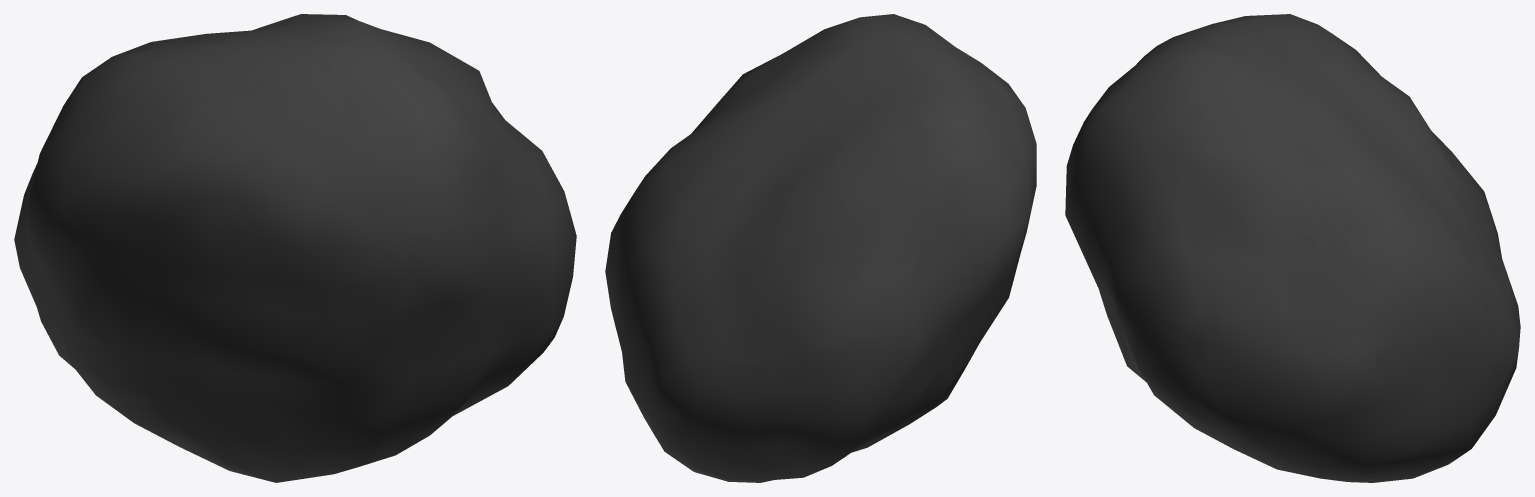
The model's file is backMeteor.obj.
3 renders of one model, left to right at view 1: azimuth 30°, elevation 25°; view 2: azimuth 150°, elevation 25°; view 3: azimuth 270°, elevation 25°, orthographic. The views are drawn at different scales.
Visible parts, largest first — view 1: Meteor_メッシュ; view 2: Meteor_メッシュ; view 3: Meteor_メッシュ.
Part boxes in pixels (box(x1,y1,x2,y2)): Meteor_メッシュ: box(14, 14, 576, 482); Meteor_メッシュ: box(605, 14, 1036, 482); Meteor_メッシュ: box(1065, 14, 1520, 482).
Size of the model in its own units: 2.66 by 2.58 by 2.62.
1 material, 1 textured.
